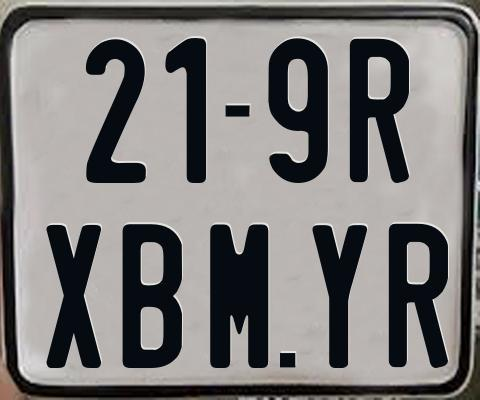1: (163, 37, 208, 182)
2: (85, 36, 145, 183)
9: (268, 35, 330, 180)
B: (122, 224, 186, 369)
M: (207, 221, 270, 366)
R: (388, 223, 452, 367), (350, 38, 410, 186)
X: (45, 223, 105, 368)
Y: (310, 225, 368, 372)
